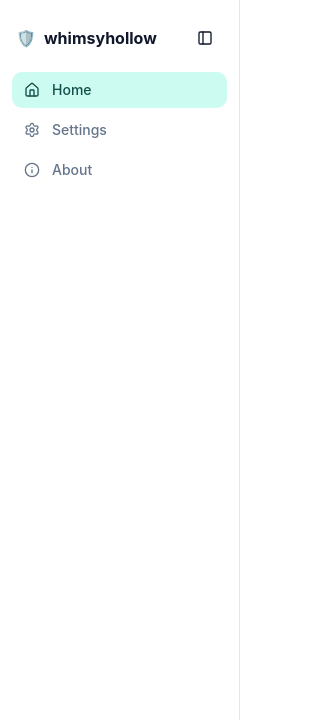
Test case: Sidebar › collapses to an icon rail, hides the brand, and persists the choice
The image size is (320, 720).
Expected: the text "whimsyhollow" is shown, left=44, top=26, right=157, bottom=50
Click the button named "collapse sidebar" at [205, 38], box left=187, top=20, right=223, bottom=56
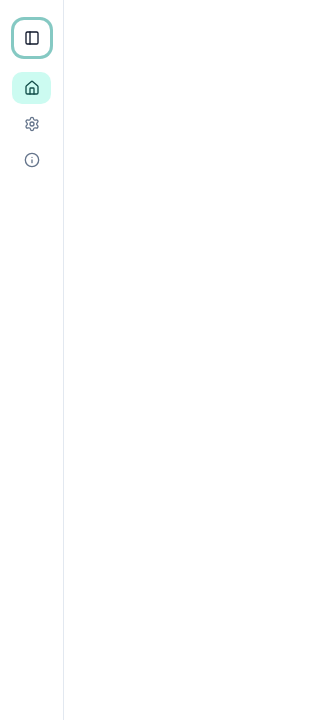
Expected: the text "whimsyhollow" is gone
Expected: the button named "expand sidebar" is shown, left=14, top=20, right=50, bottom=56
